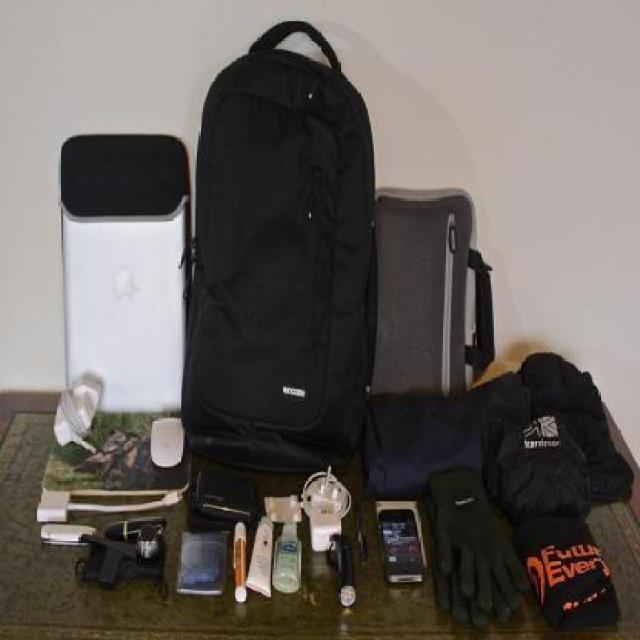backpack: (182, 14, 378, 477), (377, 178, 498, 397)
